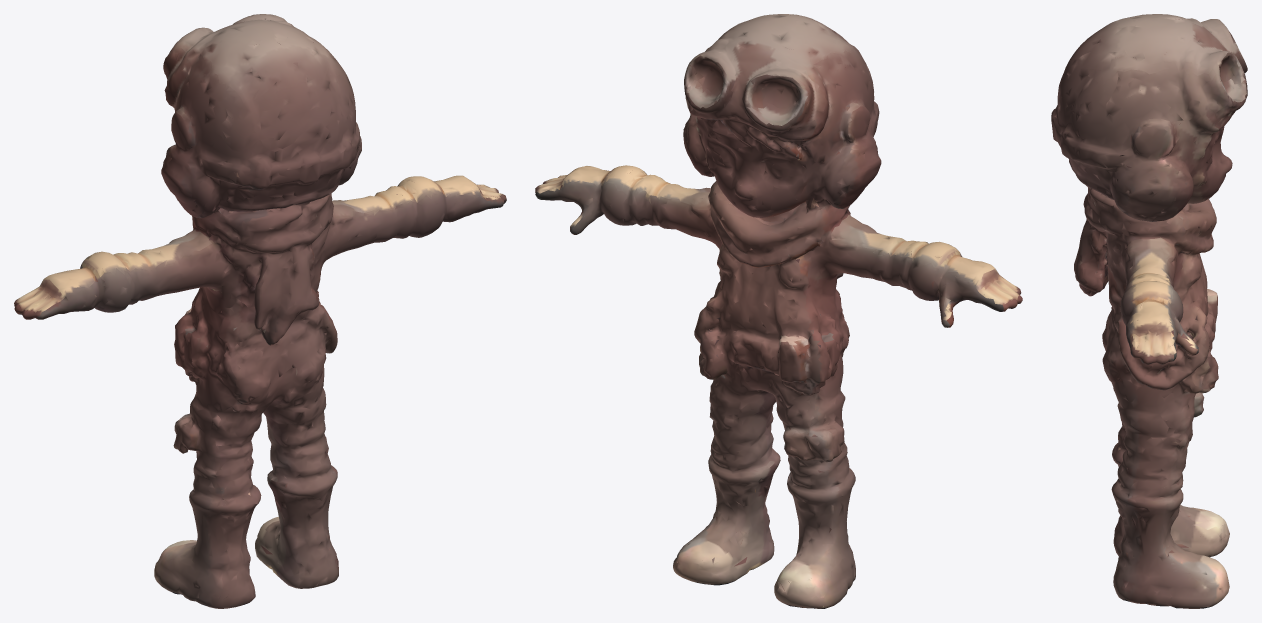
The picture shows the model from 3 angles, left to right: view 1: azimuth 30°, elevation 25°; view 2: azimuth 150°, elevation 25°; view 3: azimuth 270°, elevation 25°; orthographic projection.
Visible parts, largest first — view 1: Mesh_0; view 2: Mesh_0; view 3: Mesh_0.
Boxes of the visible parts, x1=… form: Mesh_0: x1=14, y1=14, x2=506, y2=608; Mesh_0: x1=535, y1=14, x2=1022, y2=608; Mesh_0: x1=1051, y1=14, x2=1247, y2=608.
Bounding box in the file's own units: 1.83 × 2 × 0.6479.
Materials: 1 (1 with a texture image).
